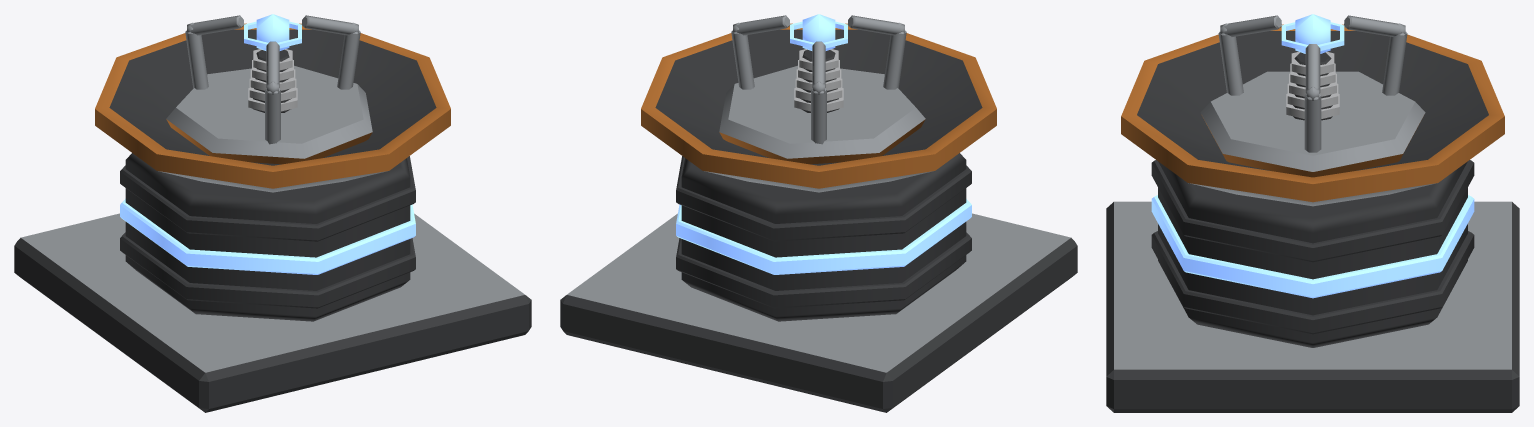
Rendered from R4X_EMPTrapDeployer_LOD1.fbx.
3 renders of one model, left to right at view 1: azimuth 30°, elevation 25°; view 2: azimuth 150°, elevation 25°; view 3: azimuth 270°, elevation 25°, orthographic. The views are drawn at different scales.
Parts seen in each view (by area): view 1: R4X_EMPTrapDeployer_LOD1; view 2: R4X_EMPTrapDeployer_LOD1; view 3: R4X_EMPTrapDeployer_LOD1.
Boxes of the visible parts, x1=… form: R4X_EMPTrapDeployer_LOD1: x1=14, y1=14, x2=531, y2=412; R4X_EMPTrapDeployer_LOD1: x1=560, y1=14, x2=1077, y2=412; R4X_EMPTrapDeployer_LOD1: x1=1106, y1=14, x2=1519, y2=412.
Size of the model in its own units: 0.52 by 0.437 by 0.52.
